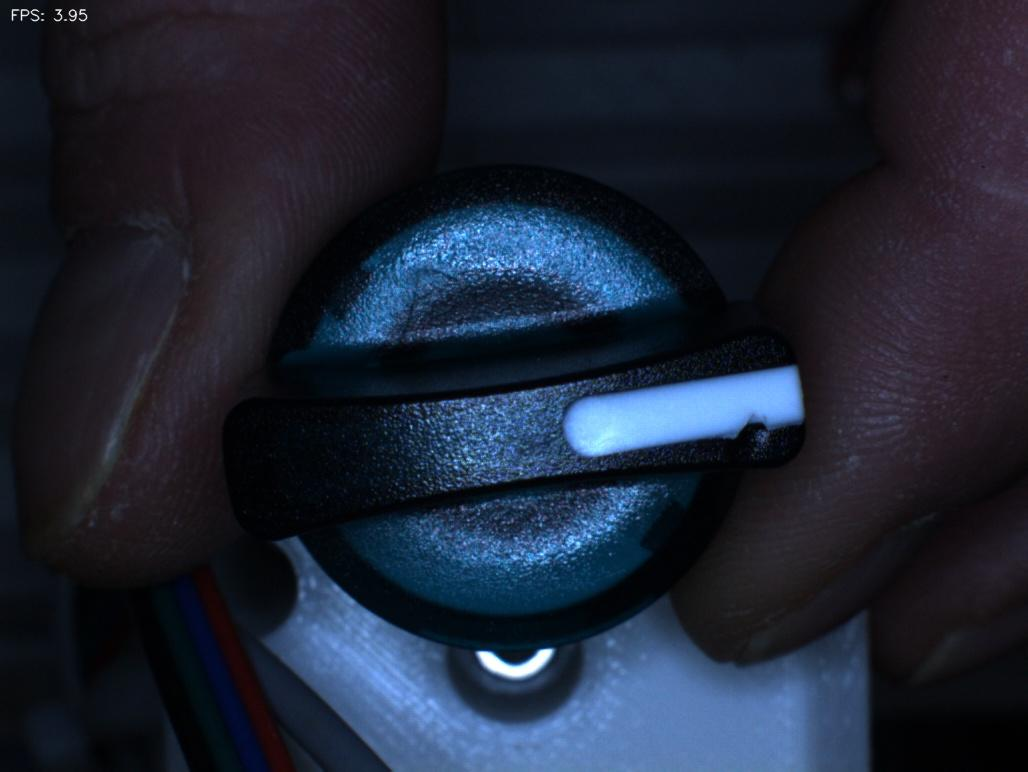Choc: (701, 387, 805, 488)
